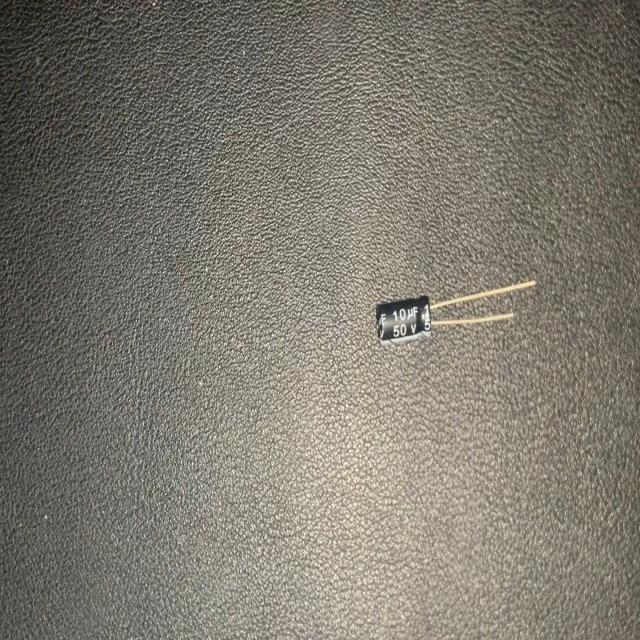capacitor: (373, 273, 538, 346)
